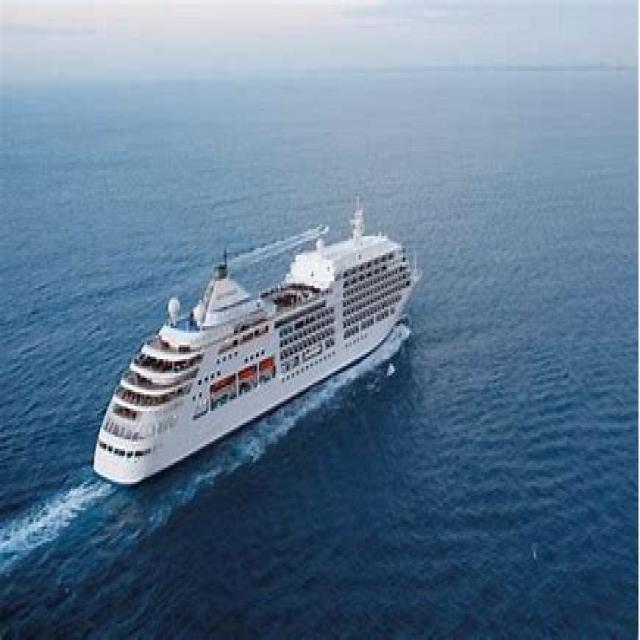PassengerShip: (102, 208, 414, 469)
